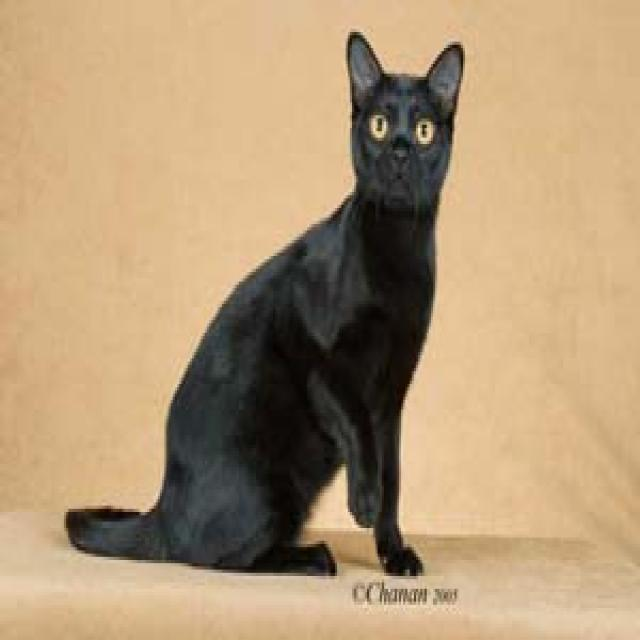Bombay: (343, 26, 461, 202)
